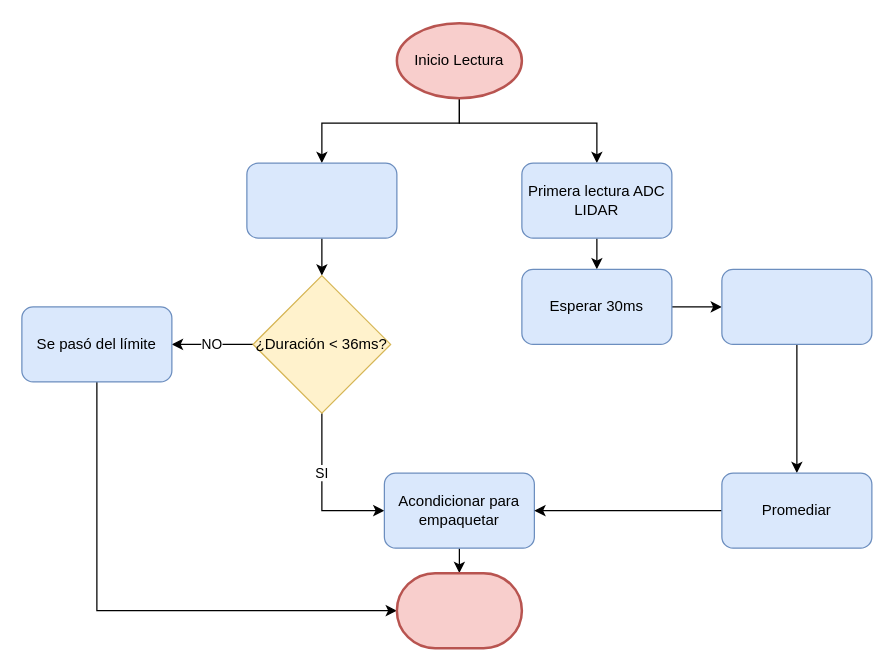
This 894x670 diagram has some shape labels left out. Each missing label, with the centre of its shape:
Fin: point (458, 610)
Pulso PWM para SONAR: point (321, 200)
Segunda Lectura: point (796, 306)
